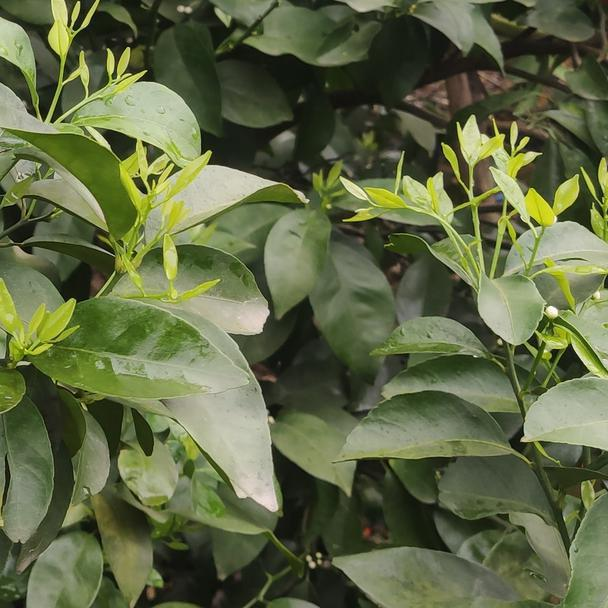shoot: (496, 169, 598, 292), (362, 153, 470, 260), (126, 146, 209, 270), (445, 120, 507, 248), (2, 279, 79, 366), (485, 121, 535, 233), (59, 57, 149, 118), (40, 2, 90, 110)
